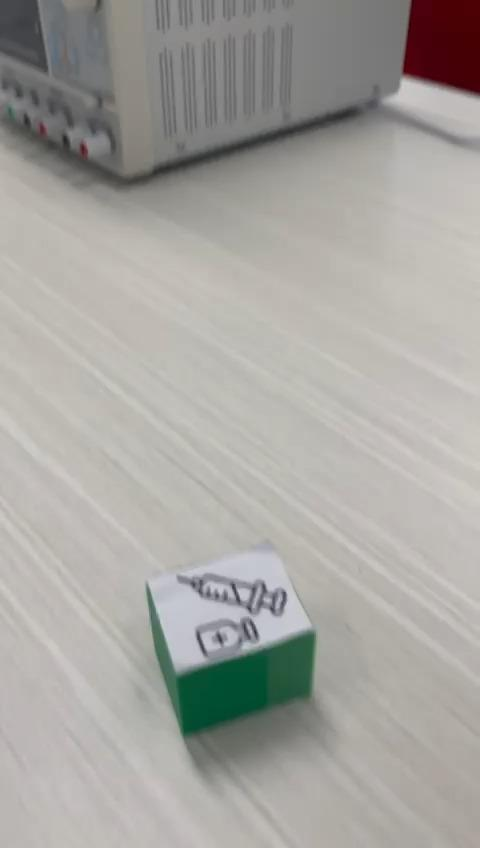antiseptic cream: (143, 538, 317, 736)
